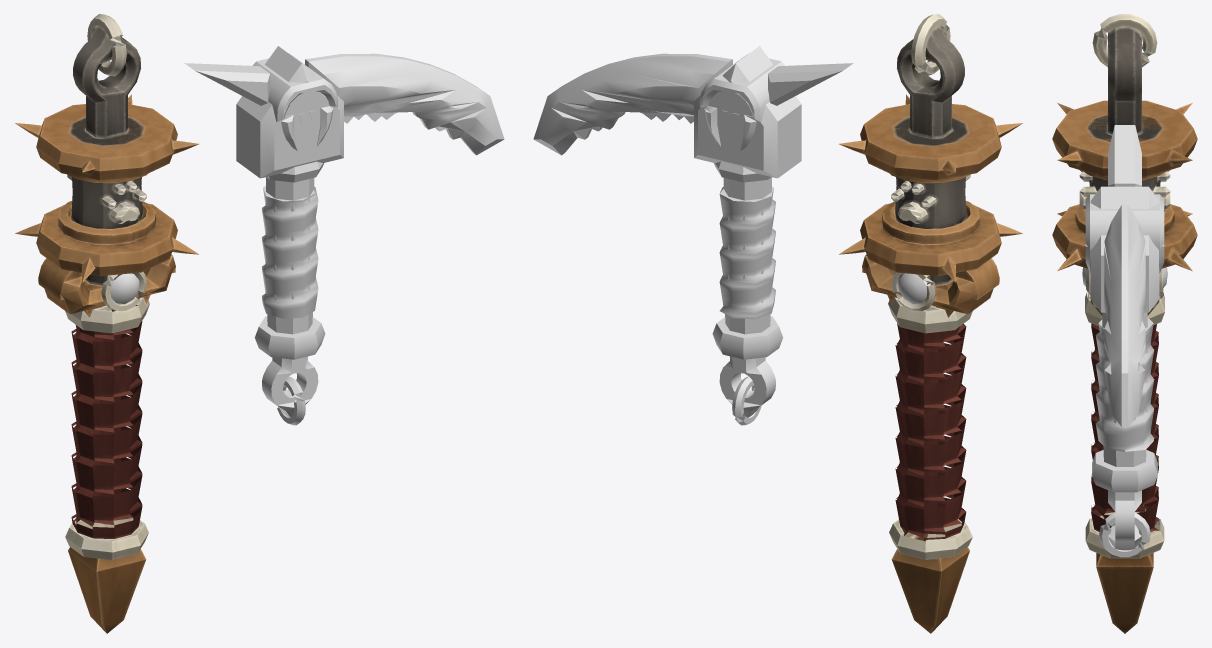
Rendered from Leashbreaker.fbx.
The picture shows the model from 3 angles, left to right: view 1: azimuth 30°, elevation 25°; view 2: azimuth 150°, elevation 25°; view 3: azimuth 270°, elevation 25°; orthographic projection.
Parts seen in each view (by area): view 1: Leashbreaker_Body, HeadBlade, HeadSocket, HeadWrap, HeadMotif, TailLug, HeadSpur, HeadButt, HeadHaft, Leashbreaker_Glow, TailRing; view 2: Leashbreaker_Body, HeadBlade, HeadSocket, HeadWrap, HeadMotif, TailLug, HeadSpur, HeadButt, HeadHaft, Leashbreaker_Glow, TailRing; view 3: Leashbreaker_Body, HeadBlade, HeadWrap, HeadSocket, HeadMotif, HeadSpur, HeadButt, TailLug, TailRing, HeadHaft.
Boxes of the visible parts, x1,y1,x2,y2 form: Leashbreaker_Body: (15, 14, 198, 633); HeadBlade: (305, 53, 504, 155); HeadSocket: (236, 46, 343, 178); HeadWrap: (262, 186, 318, 318); HeadMotif: (252, 53, 337, 150); TailLug: (262, 356, 318, 417); HeadSpur: (184, 63, 269, 105); HeadButt: (254, 316, 325, 359); HeadHaft: (266, 177, 314, 334); Leashbreaker_Glow: (110, 273, 139, 303); TailRing: (277, 376, 305, 425); Leashbreaker_Body: (839, 14, 1022, 633); HeadBlade: (533, 53, 732, 155); HeadSocket: (694, 46, 801, 178); HeadWrap: (719, 186, 775, 319); HeadMotif: (700, 53, 785, 150); TailLug: (719, 356, 775, 417); HeadSpur: (768, 63, 853, 105); HeadButt: (712, 316, 783, 359); HeadHaft: (723, 177, 771, 334); Leashbreaker_Glow: (898, 273, 930, 303); TailRing: (732, 376, 761, 425); Leashbreaker_Body: (1052, 14, 1197, 633); HeadBlade: (1104, 205, 1145, 426); HeadWrap: (1095, 318, 1154, 451); HeadSocket: (1090, 186, 1159, 312); HeadMotif: (1085, 194, 1164, 273); HeadSpur: (1108, 125, 1141, 186); HeadButt: (1092, 450, 1157, 492); TailLug: (1108, 490, 1141, 550); TailRing: (1099, 513, 1150, 557); HeadHaft: (1102, 312, 1147, 466).
Size of the model in its own units: 1.54 by 2 by 0.4252.
